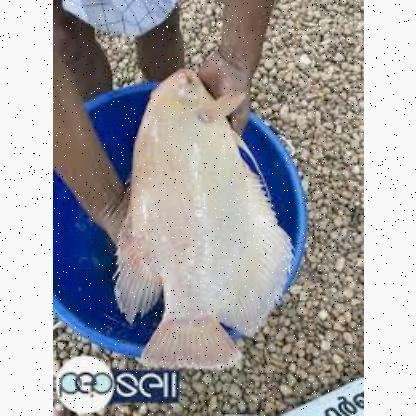gurame: (114, 60, 288, 358)
